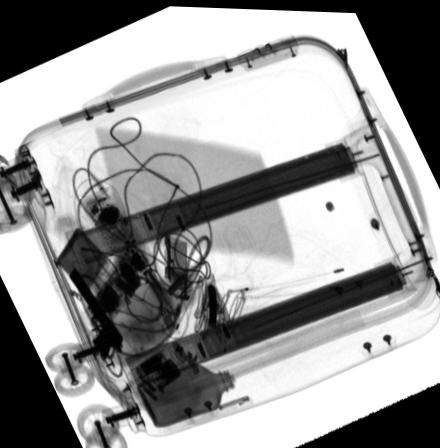Gun: (67, 265, 125, 360)
